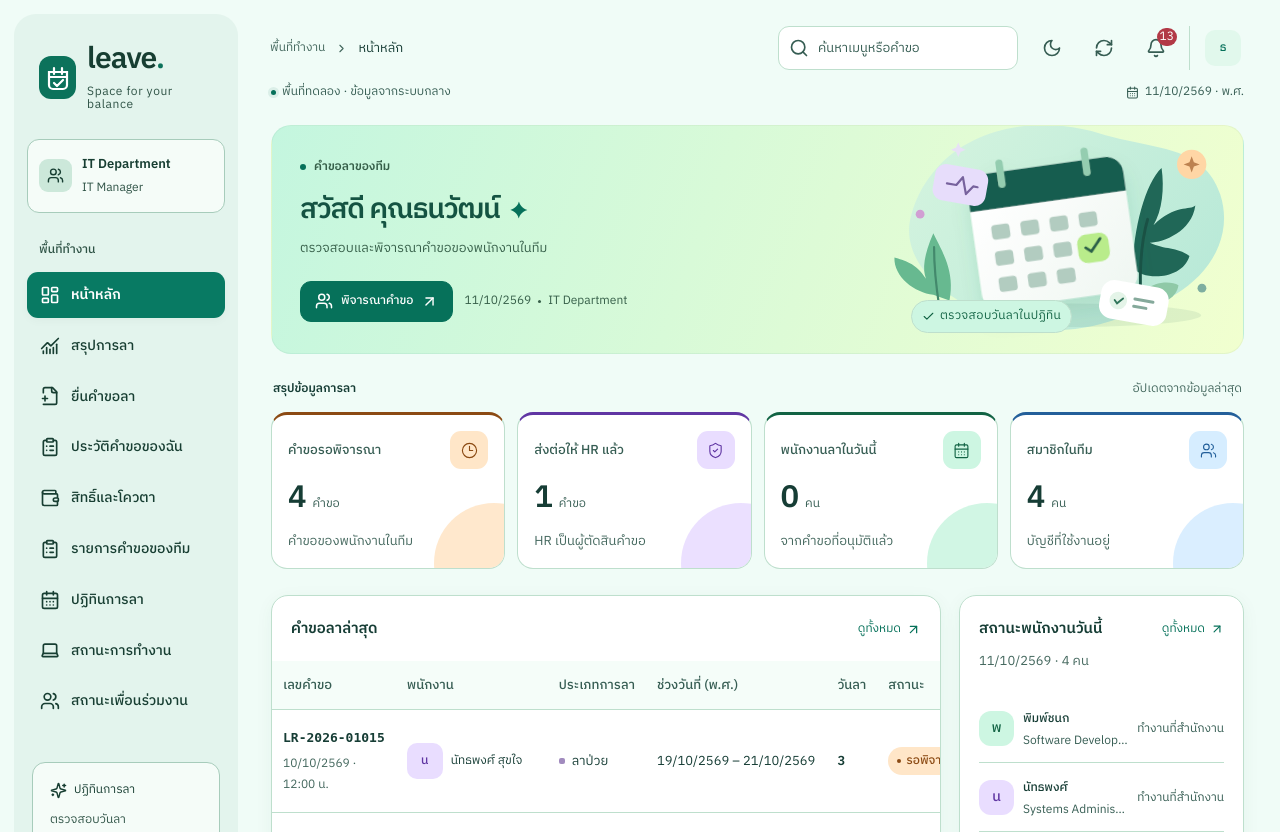
Test: manager leave summary is available from the workspace menu and quick search
Expected: the heading "คำขอลาล่าสุด" is shown, top-left (291, 617), bottom-right (378, 641)
Expected: the link "การแจ้งเตือน" is not shown
Click the link "สรุปการลา".
click(87, 345)  # box top-left (40, 334), bottom-right (134, 357)
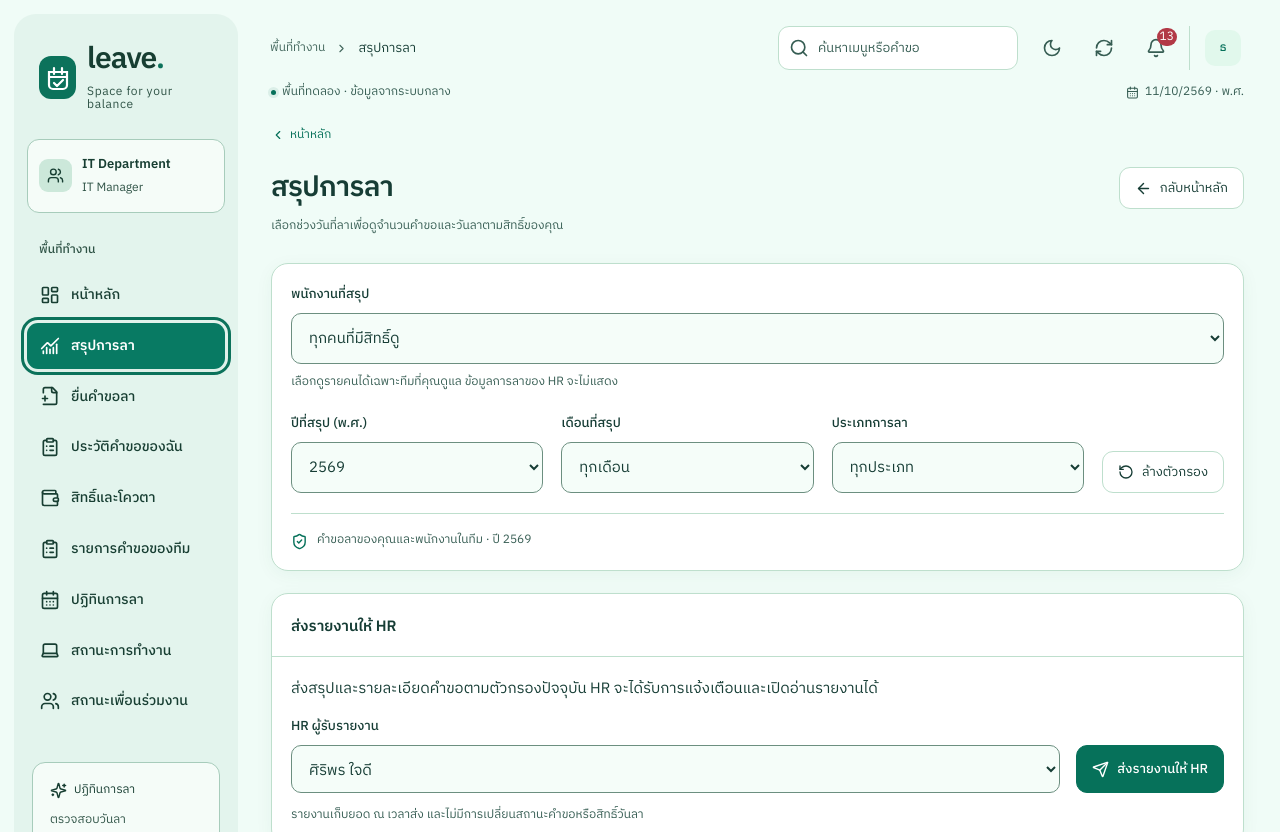
Expected: the heading "สรุปการลา" is shown, top-left (271, 165), bottom-right (393, 211)
Click the link "หน้าหลัก" below "IT Manager".
click(80, 294)  # box top-left (40, 283), bottom-right (120, 306)
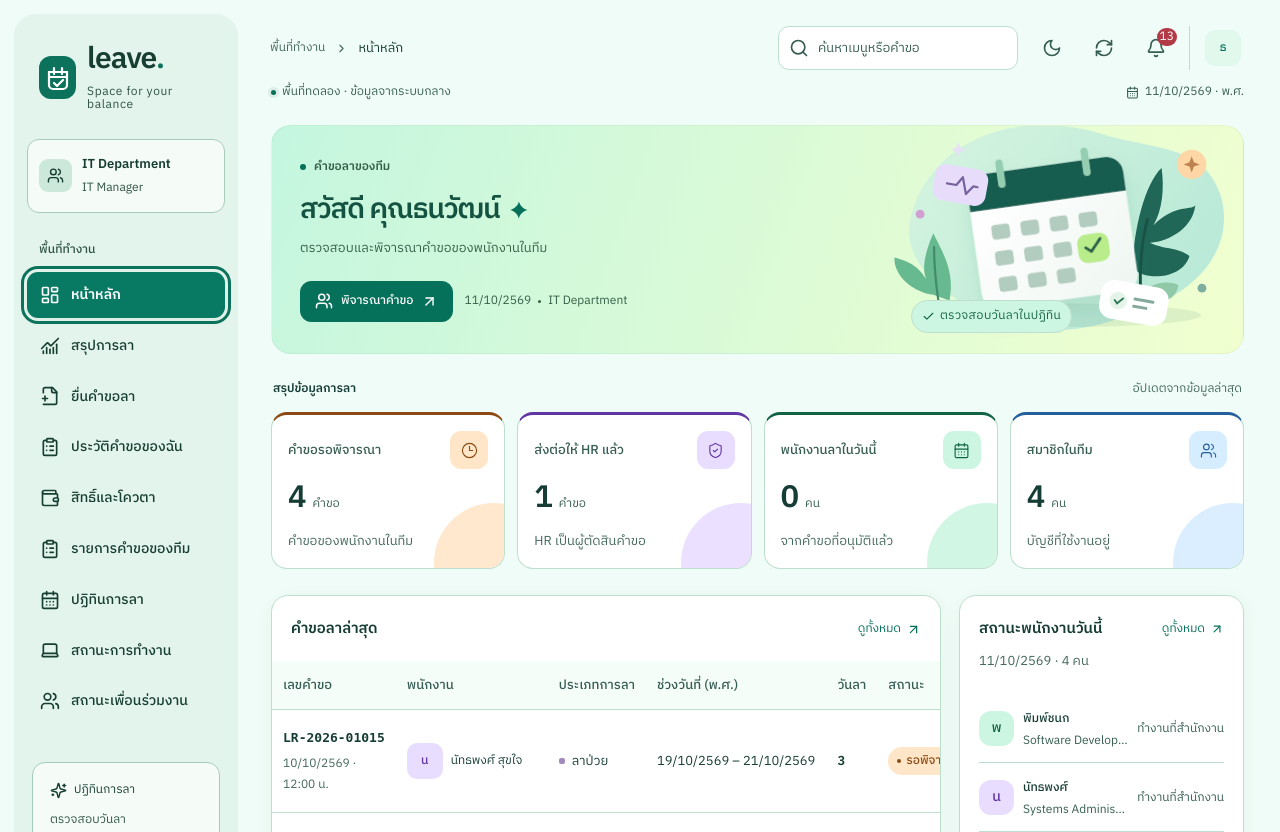
Click the button "ค้นหาเมนูหรือคำขอ".
click(898, 48)  # box top-left (778, 26), bottom-right (1018, 70)
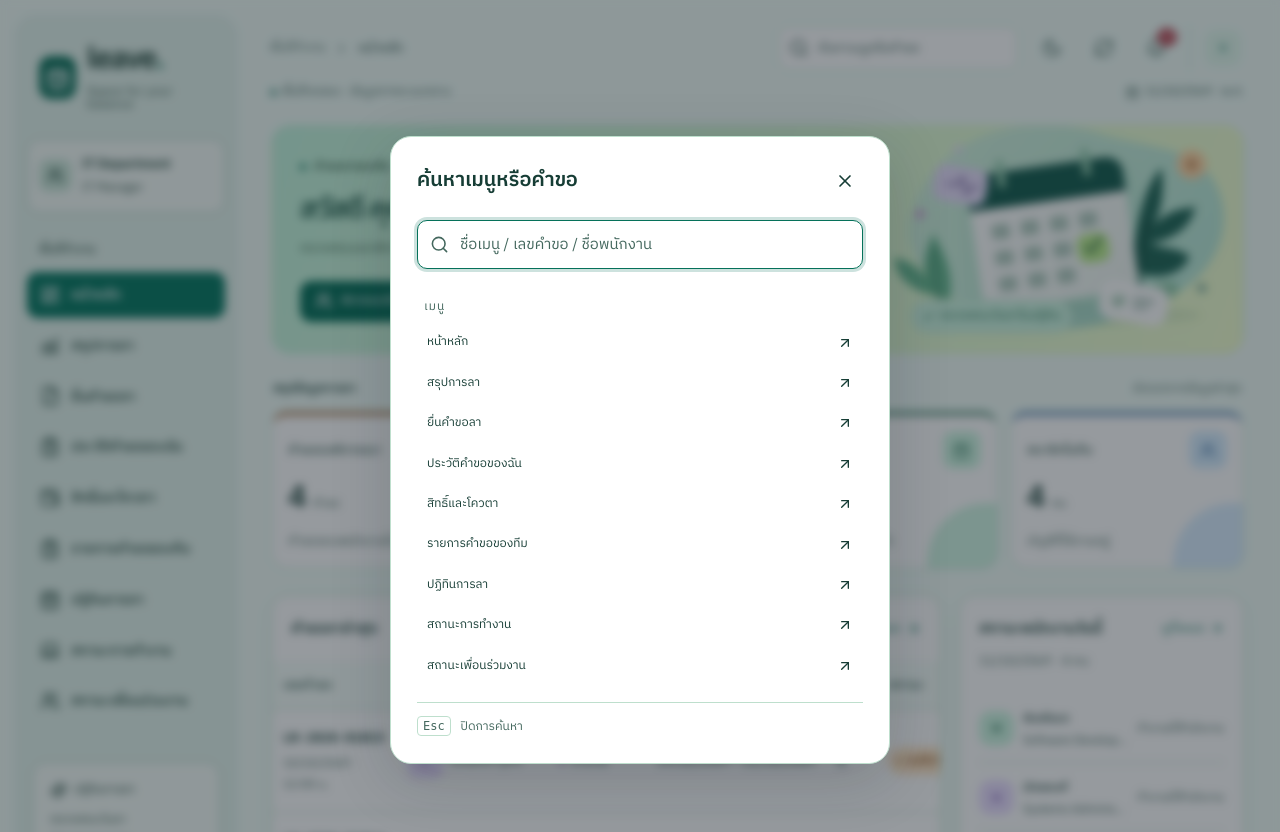
Type "สรุปการลา" into the field named "ค้นหาเมนูหรือคำขอ".
click(640, 244); type("สรุปการลา")  # box top-left (417, 220), bottom-right (863, 269)
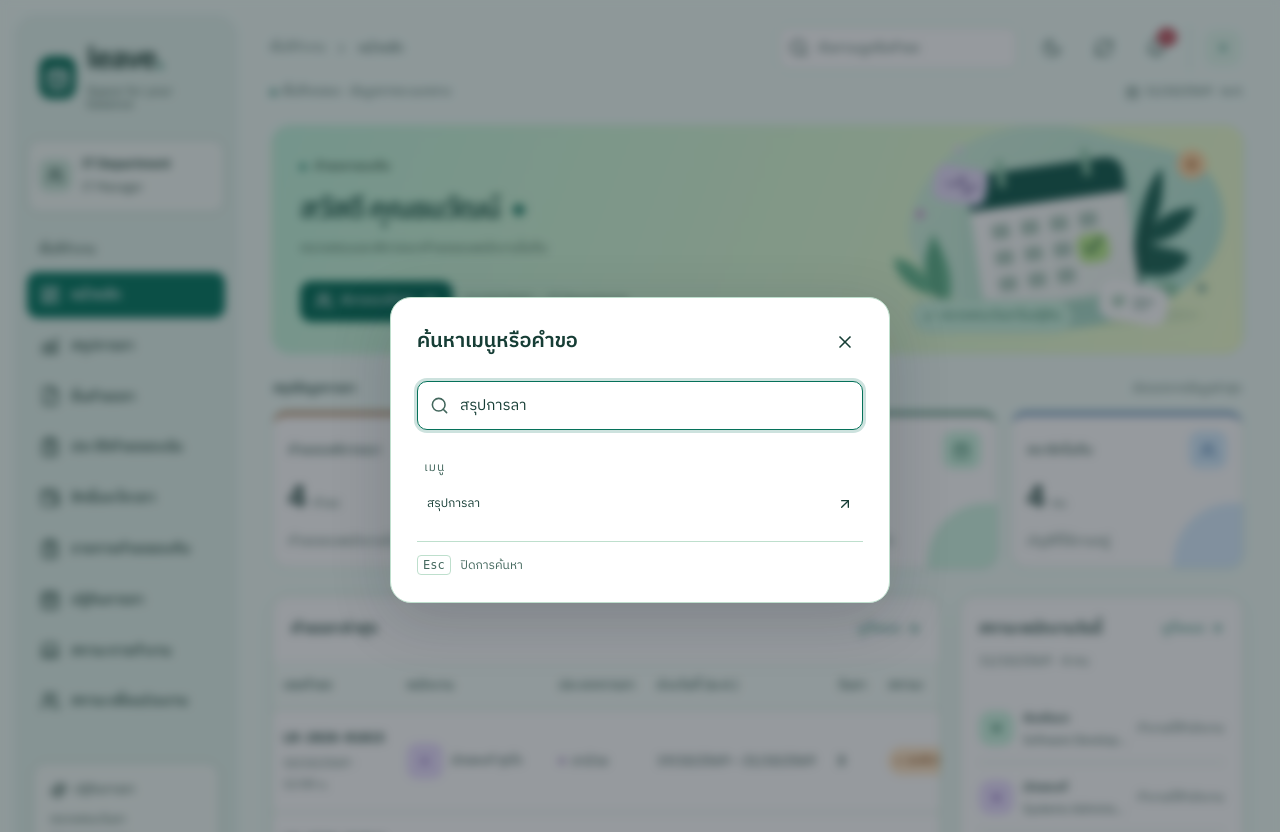
Click the link "สรุปการลา".
click(454, 503)  # box top-left (427, 494), bottom-right (853, 512)
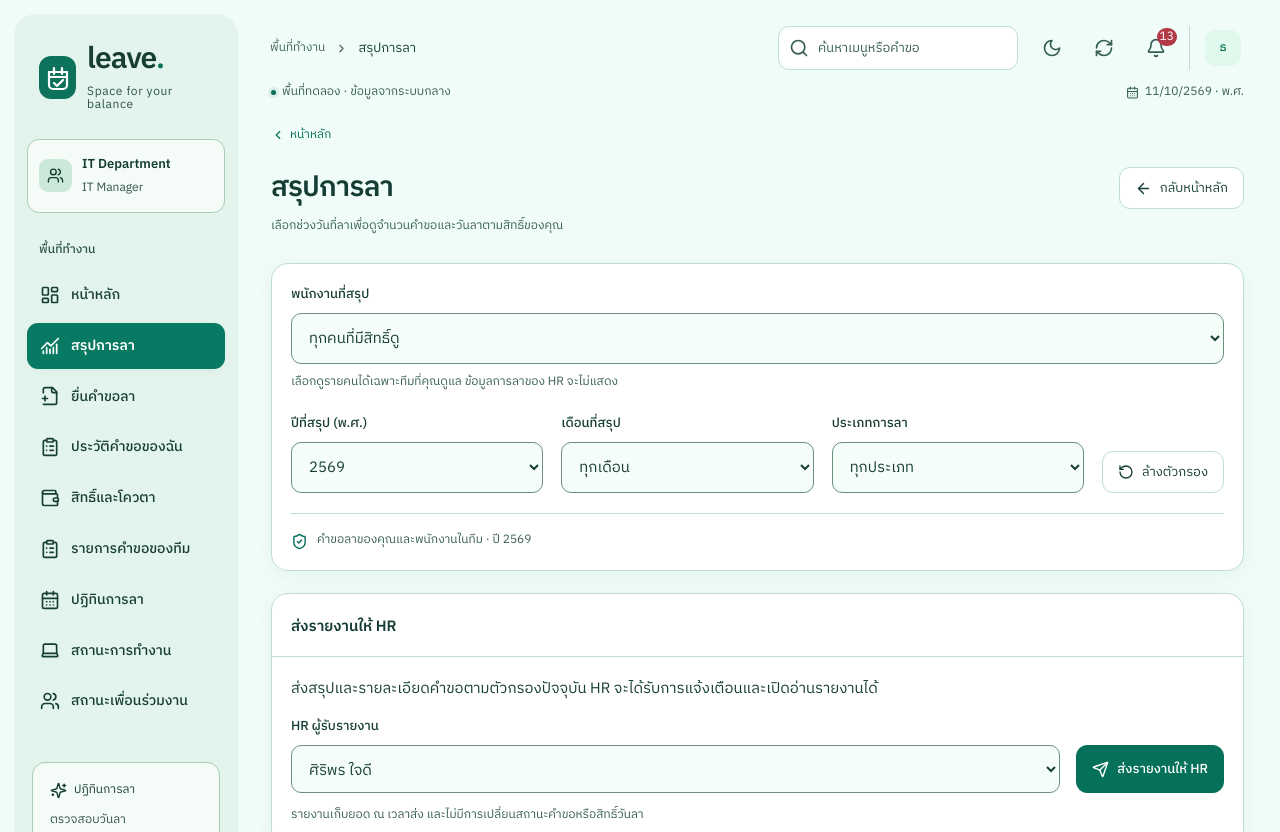
Expected: the heading "สรุปการลา" is shown, top-left (271, 165), bottom-right (393, 211)
Expected: the dialog "ค้นหาเมนูหรือคำขอ เมนู สรุปการลา Esc ปิดการค้นหา" is gone
